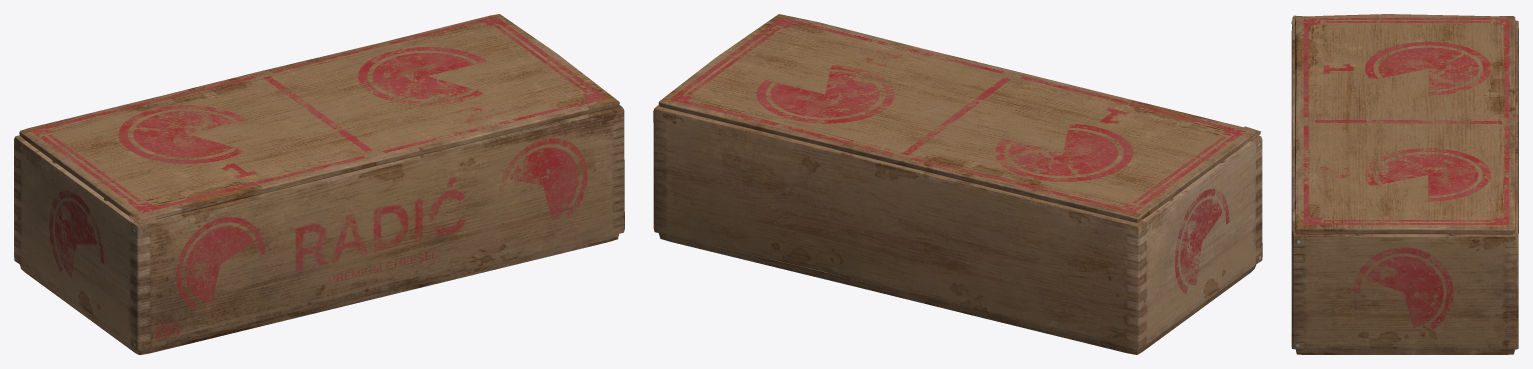
Rendered from web.gltf.
3 views of the same model, side by side, from view 1: azimuth 30°, elevation 25°; view 2: azimuth 150°, elevation 25°; view 3: azimuth 270°, elevation 25° (orthographic). The views are drawn at different scales.
Visible parts, largest first — view 1: CheeseBox_01, CheeseBox_01_lid; view 2: CheeseBox_01, CheeseBox_01_lid; view 3: CheeseBox_01_lid, CheeseBox_01.
Part boxes in pixels (box(x1,y1,x2,y2)): CheeseBox_01: box(14, 105, 624, 354); CheeseBox_01_lid: box(19, 14, 619, 225); CheeseBox_01: box(653, 105, 1262, 354); CheeseBox_01_lid: box(658, 14, 1260, 222); CheeseBox_01_lid: box(1291, 14, 1516, 234); CheeseBox_01: box(1291, 20, 1518, 354).
Size of the model in its own units: 0.2404 by 0.066 by 0.1066.
Materials: 1 (1 with a texture image).
